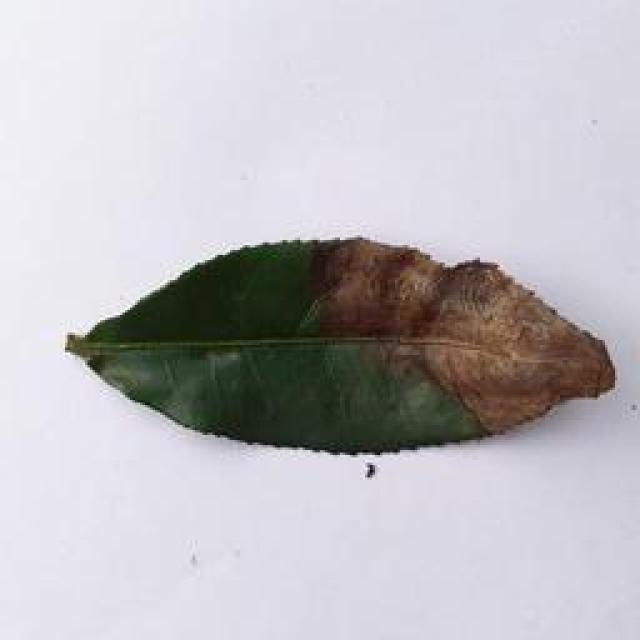Brown Blight: (62, 225, 634, 458)
